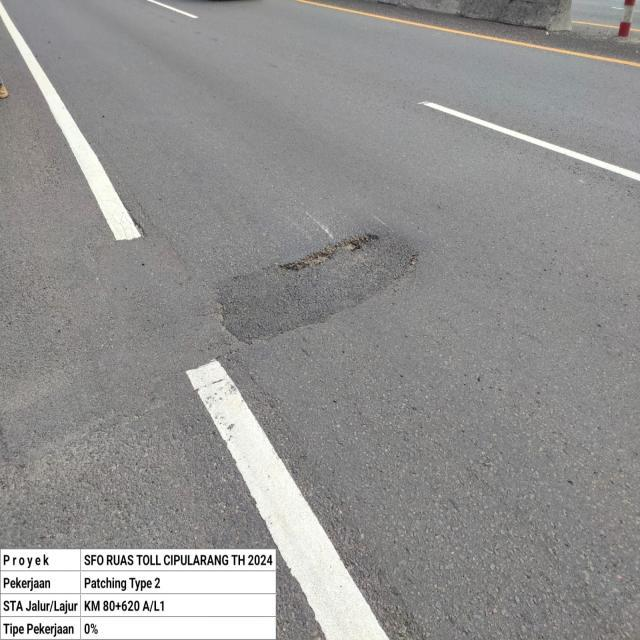Buraco: (275, 230, 384, 274)
